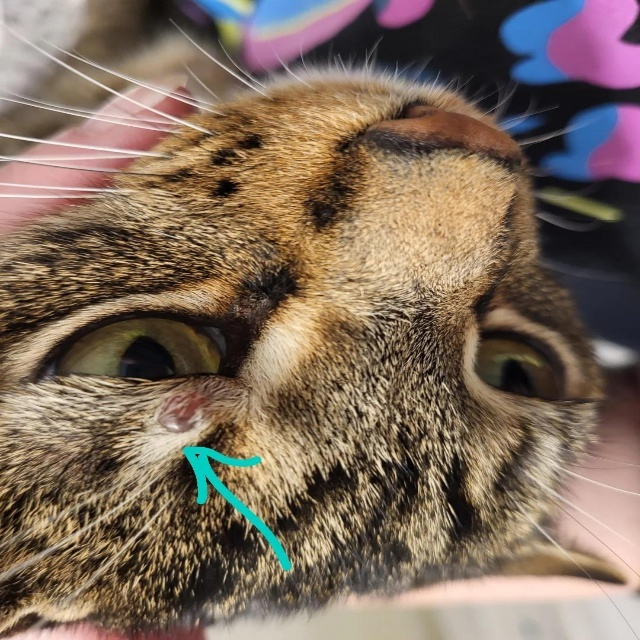lump_and_bump: (161, 392, 206, 430)
